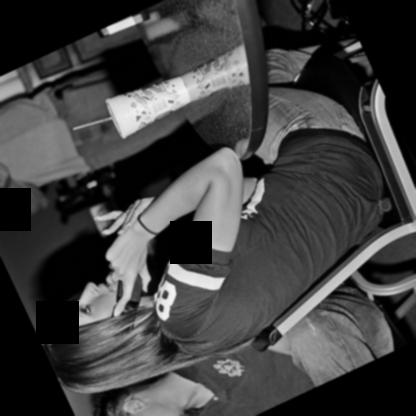handbag: (289, 0, 358, 37)
